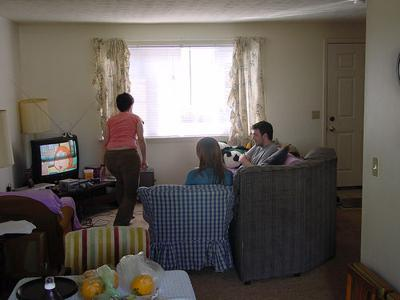person: (238, 120, 278, 174)
